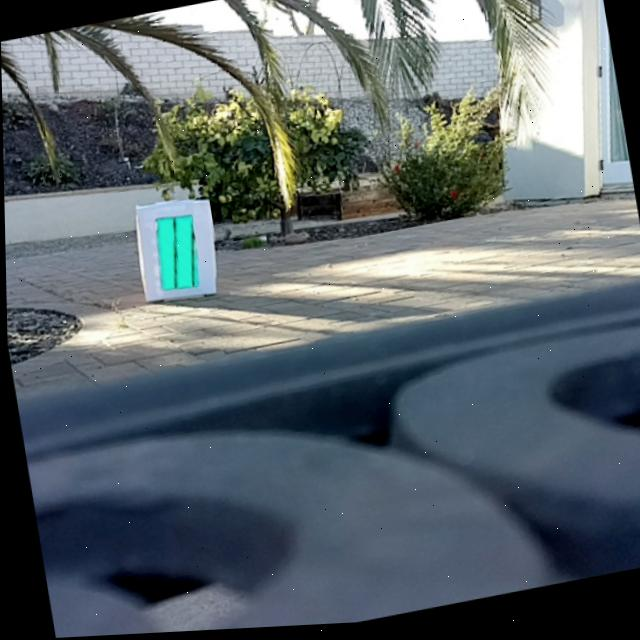led: (151, 214, 201, 295)
